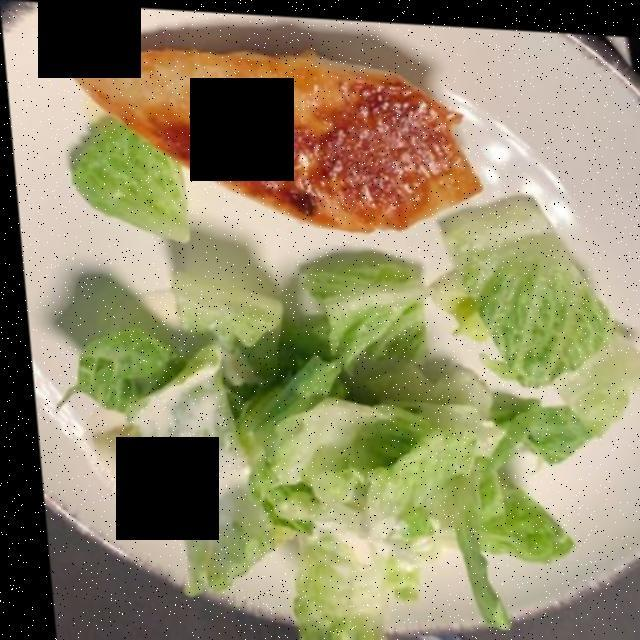chicken: (30, 32, 503, 223)
salad: (46, 132, 639, 630)
